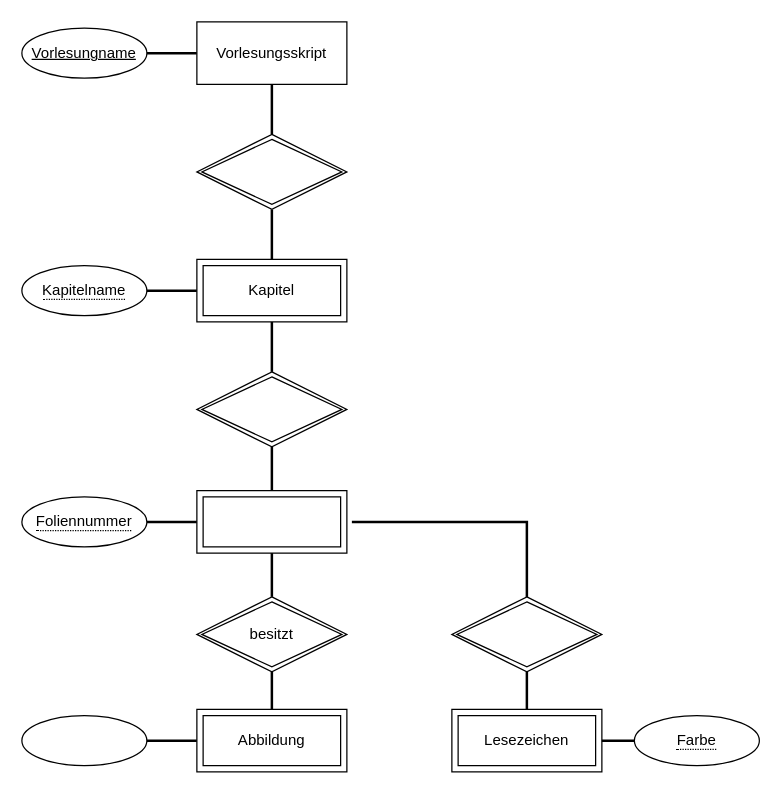
Some shapes in this 781 by 794 pixel diagram are drawn without their labels. The shapes that lost their labels are listed below. From the top down, each one's centre as x and y in pixels, then its label:
pixel 271 171: unterteilt
pixel 271 409: beinhaltet
pixel 271 521: Folie
pixel 526 634: angeheftet
pixel 84 740: Beschriftung
